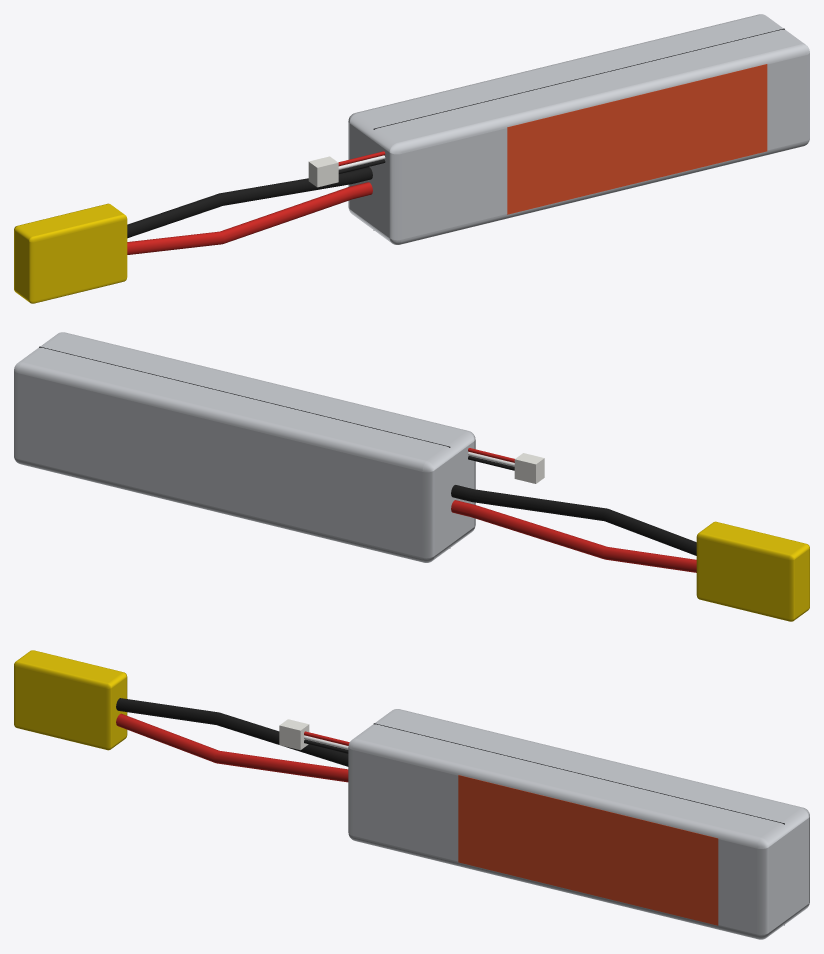
File: betafpv-lava-2s-550.glb
3 renders of one model, top to bottom at view 1: azimuth 30°, elevation 25°; view 2: azimuth 150°, elevation 25°; view 3: azimuth 330°, elevation 25°, orthographic.
Visible parts, largest first — view 1: body, label, connector, lead_red, lead_black, balance_plug; view 2: body, connector, lead_black, lead_red, balance_plug; view 3: body, label, connector, lead_red, lead_black, balance_plug.
Boxes of the visible parts, x1,y1,x2,y2 form: body: [348, 14, 809, 244]; label: [507, 64, 767, 214]; connector: [14, 203, 127, 303]; lead_red: [127, 182, 372, 254]; lead_black: [127, 167, 372, 238]; balance_plug: [308, 156, 338, 187]; body: [14, 332, 475, 562]; connector: [696, 521, 809, 621]; lead_black: [451, 485, 696, 555]; lead_red: [451, 500, 696, 572]; balance_plug: [514, 453, 544, 483]; body: [348, 709, 809, 939]; label: [458, 775, 718, 925]; connector: [14, 650, 127, 750]; lead_red: [116, 713, 348, 782]; lead_black: [116, 698, 348, 766]; balance_plug: [279, 719, 309, 750].
Size of the model in its own units: 123 by 15.54 by 13.54.
